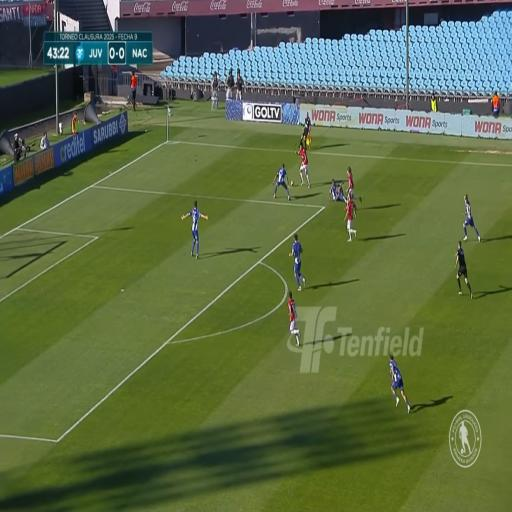Ball: (290, 179, 294, 186)
Player: (386, 353, 407, 409), (188, 196, 204, 259), (286, 290, 302, 344), (292, 230, 306, 287), (344, 190, 356, 244), (298, 140, 310, 187), (344, 165, 358, 202), (463, 193, 474, 234), (278, 162, 287, 203), (332, 179, 344, 202)
Referee: (454, 241, 470, 297), (298, 113, 312, 151)
